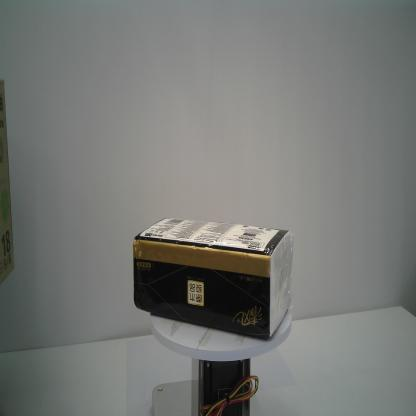Tissue: (132, 218, 294, 340)
